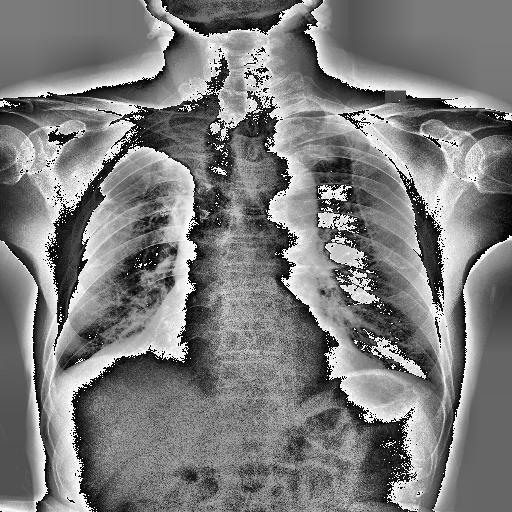0- Aortic enlargement: (242, 152, 318, 236), (258, 151, 318, 218)
1- Atelectasis: (133, 111, 211, 180), (132, 116, 208, 170), (138, 113, 208, 169)
11- Pleural thickening: (94, 188, 118, 207)
13- Pulmonary fibrosis: (92, 188, 116, 205)
3- Cardiomegaly: (140, 285, 374, 375), (145, 316, 371, 366)
